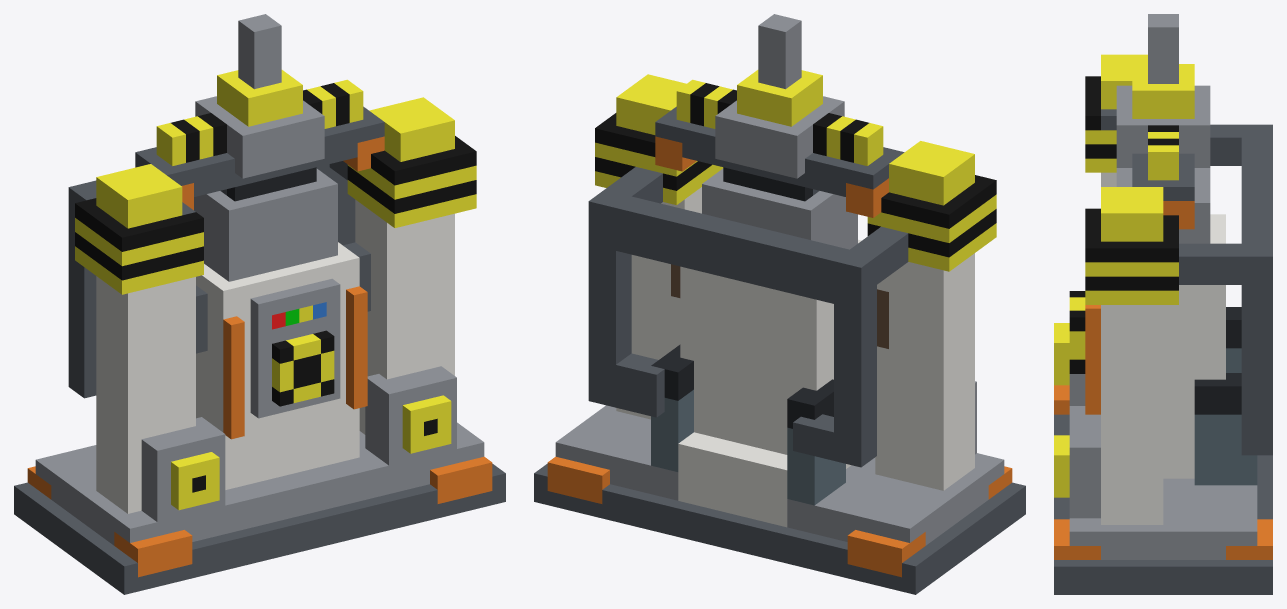
Rendered from Radiation_Shield_Generator.obj.
3 renders of one model, left to right at view 1: azimuth 30°, elevation 25°; view 2: azimuth 150°, elevation 25°; view 3: azimuth 270°, elevation 25°, orthographic.
Bounding box in the file's own units: 2.8 × 3.4 × 1.4.
1 material, 1 textured.
